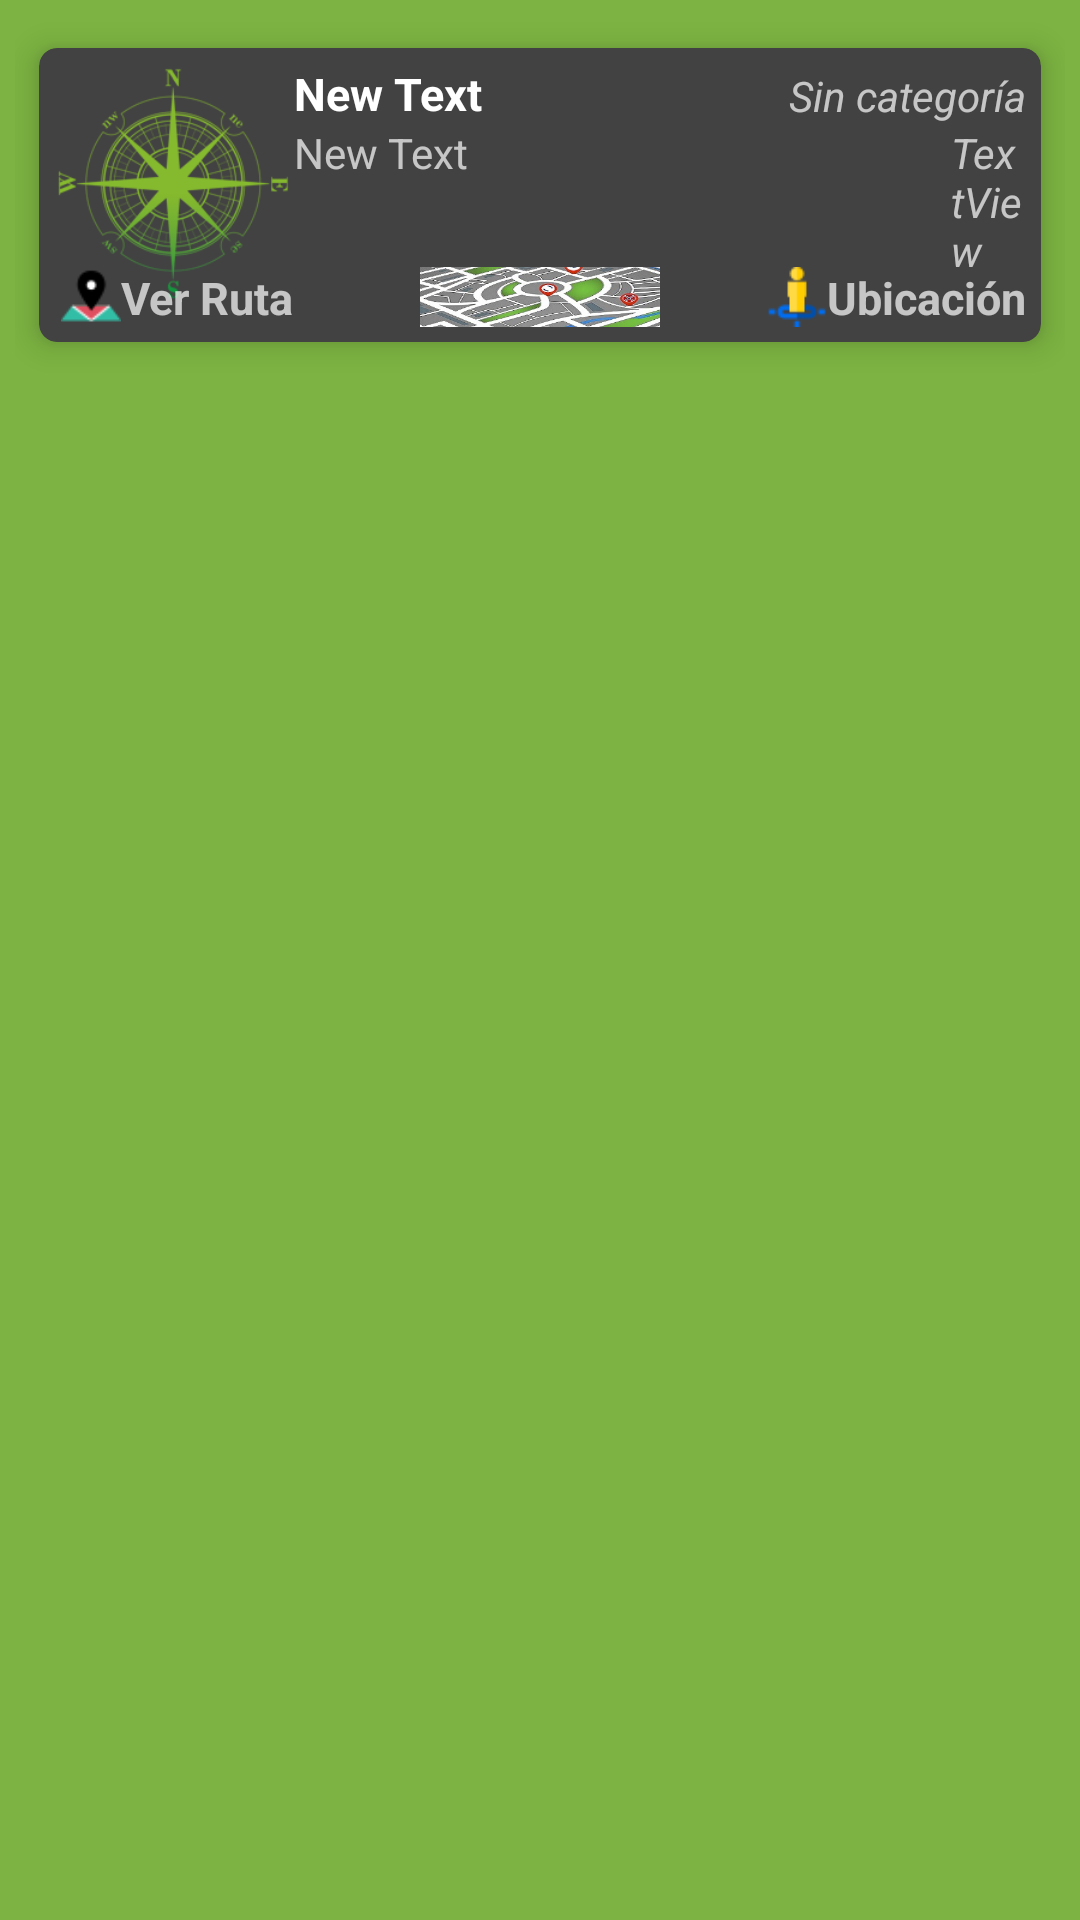

Icon click points for this 1080 × 1920 phone screenshot, format (x=x, y=y):
imgmapa: (x=540, y=297)
situar: (x=797, y=297)
